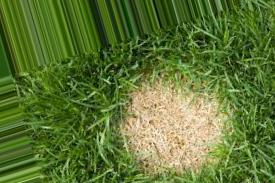patch: (126, 91, 206, 156), (207, 101, 232, 150), (147, 157, 194, 172)
